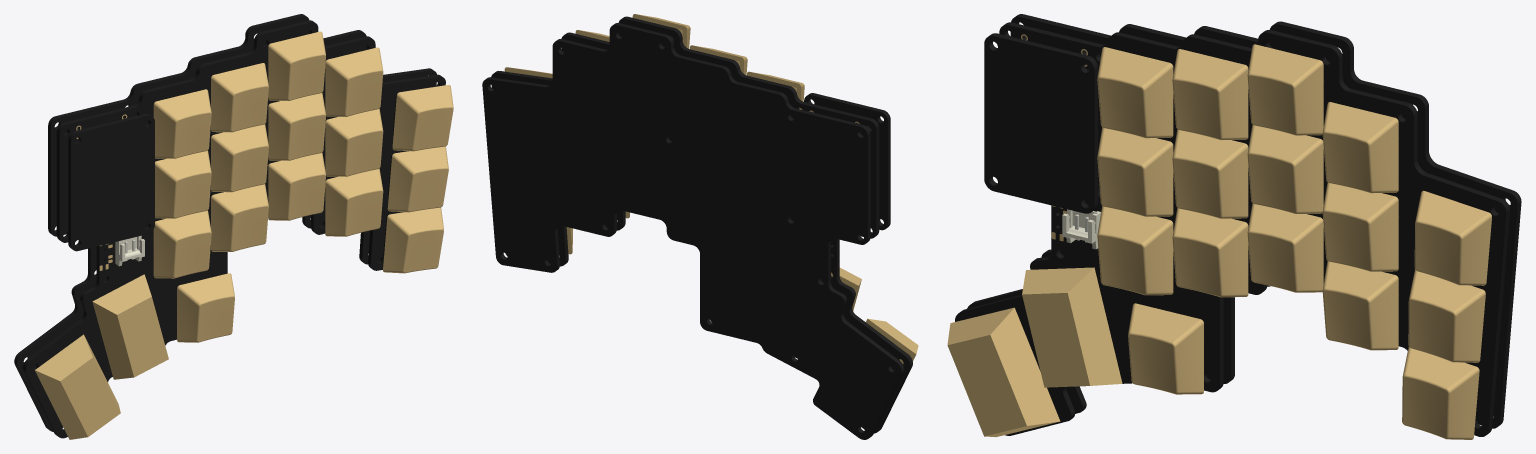
The model's file is Diom-35SP_PCB-R.fbx.
3 views of the same model, side by side, from view 1: azimuth 30°, elevation 25°; view 2: azimuth 150°, elevation 25°; view 3: azimuth 330°, elevation 25° (orthographic). The views are drawn at different scales.
Parts seen in each view (by area): view 1: Body1 (×22); view 2: Body1 (×7); view 3: Body1 (×22).
Part boxes in pixels (<box>): Body1 (×22): <box>14,14,453,439</box>; Body1 (×7): <box>482,14,918,439</box>; Body1 (×22): <box>947,14,1521,439</box>.
Bounding box in the file's own units: 140 × 113 × 18.74.
